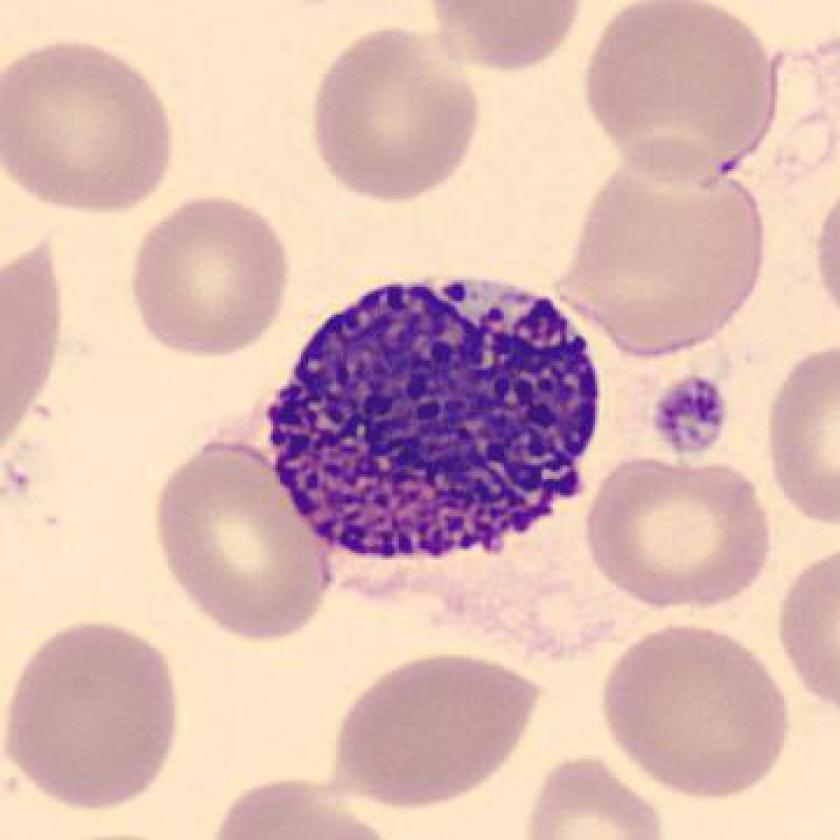basophil: (246, 270, 617, 578)
